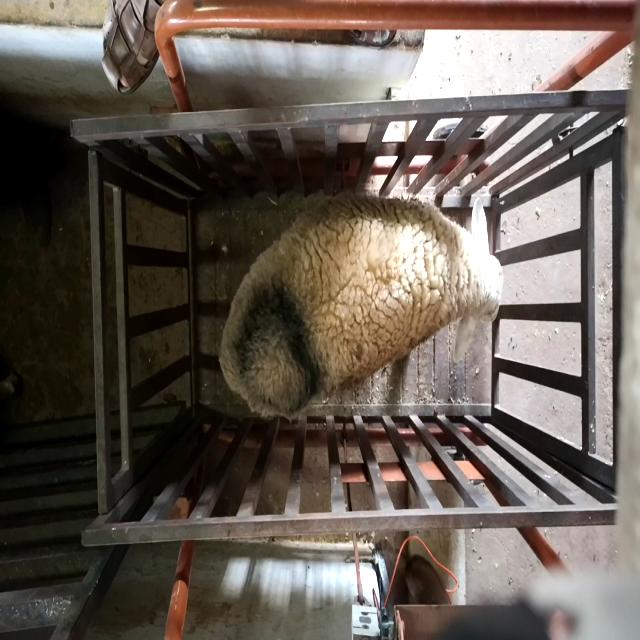sheep: (219, 190, 504, 420)
